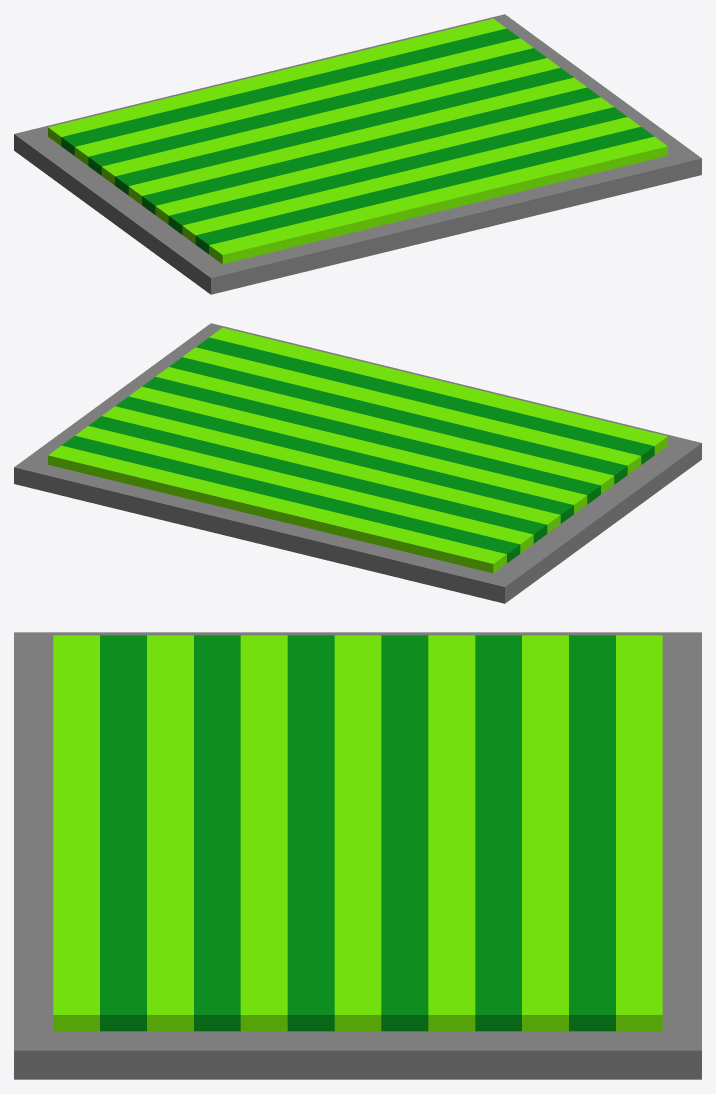
File: Stadion.glb
3 views of the same model, one above another, from view 1: azimuth 30°, elevation 25°; view 2: azimuth 150°, elevation 25°; view 3: azimuth 270°, elevation 25° (orthographic). The views are drawn at different scales.
Visible parts, largest first — view 1: Cube, Cube.001; view 2: Cube, Cube.001; view 3: Cube, Cube.001.
Part boxes in pixels (left/top/right/bottom): Cube: left=48, top=18, right=667, bottom=264; Cube.001: left=14, top=14, right=701, bottom=294; Cube: left=48, top=327, right=667, bottom=573; Cube.001: left=14, top=323, right=701, bottom=603; Cube: left=53, top=635, right=662, bottom=1031; Cube.001: left=14, top=632, right=701, bottom=1079.
Size of the model in its own units: 17.05 by 0.8623 by 11.85.
